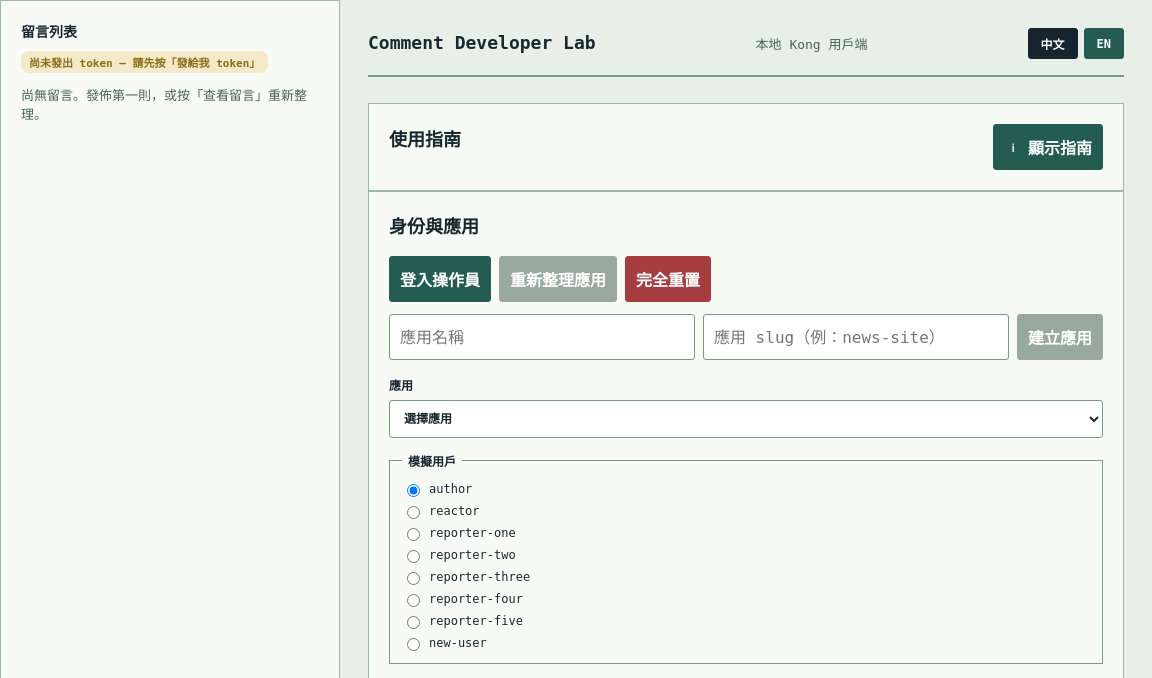
Scenario: Lab language switching › collapses and reopens the guide
Click the button "顯示指南" at (1048, 147), box [993,124,1103,170]
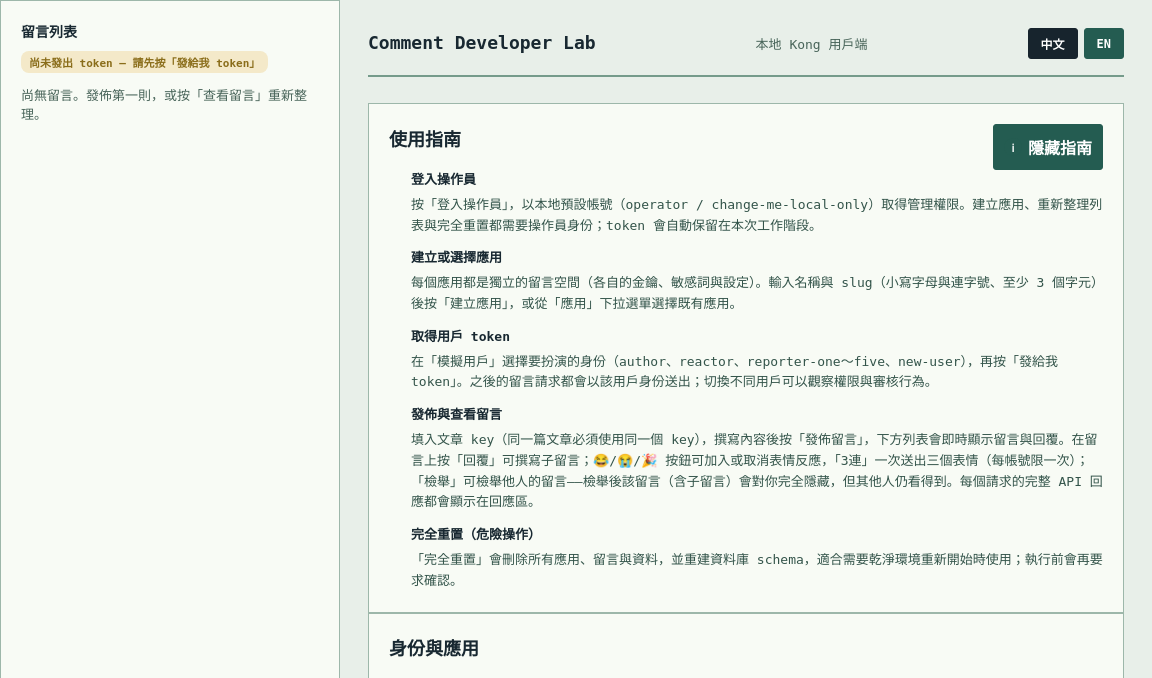
Expected: the element with id "lab" shows "獨立的留言空間", [411,275,1098,311]
Click the button "隱藏指南" at (1048, 147), box [993,124,1103,170]
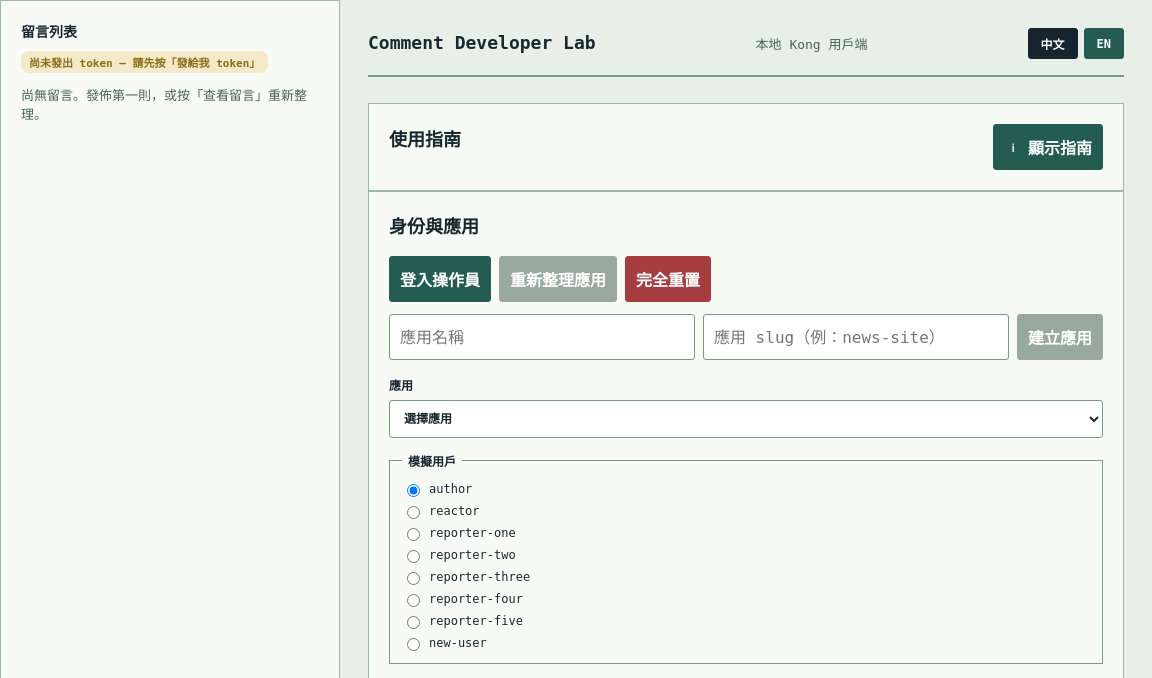
Expected: the text with id "lab" no longer shows "獨立的留言空間"
